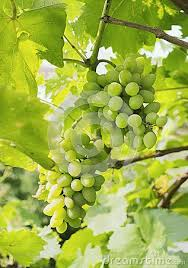grapes: (80, 60, 168, 155), (50, 149, 106, 237)
